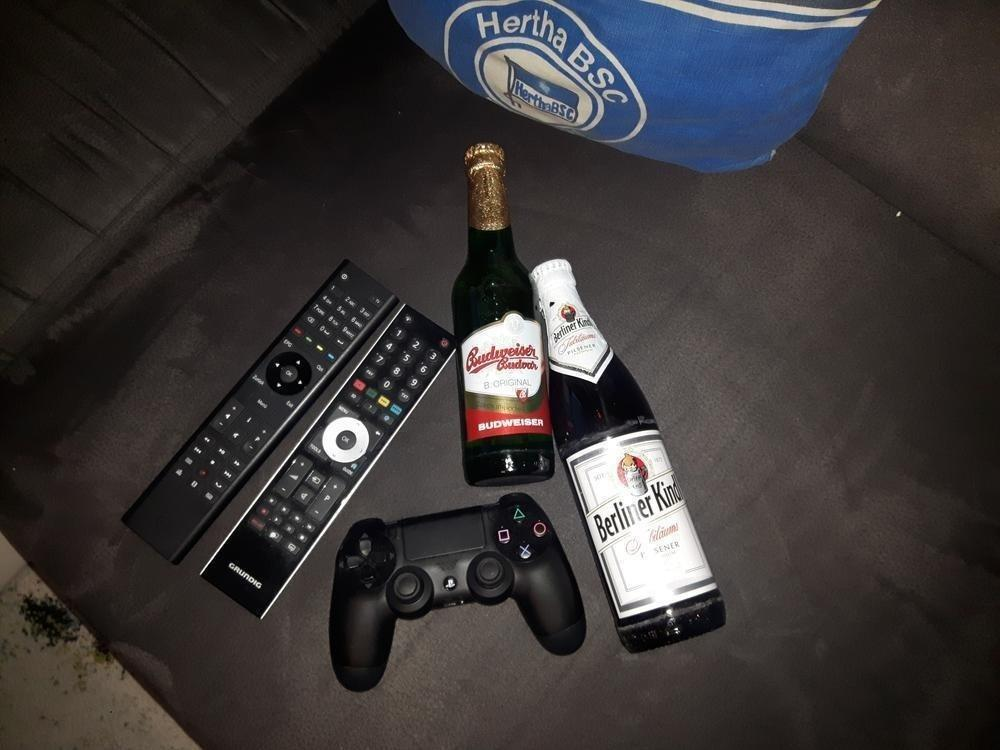bottle-glass: (528, 257, 730, 653), (450, 140, 556, 489)
